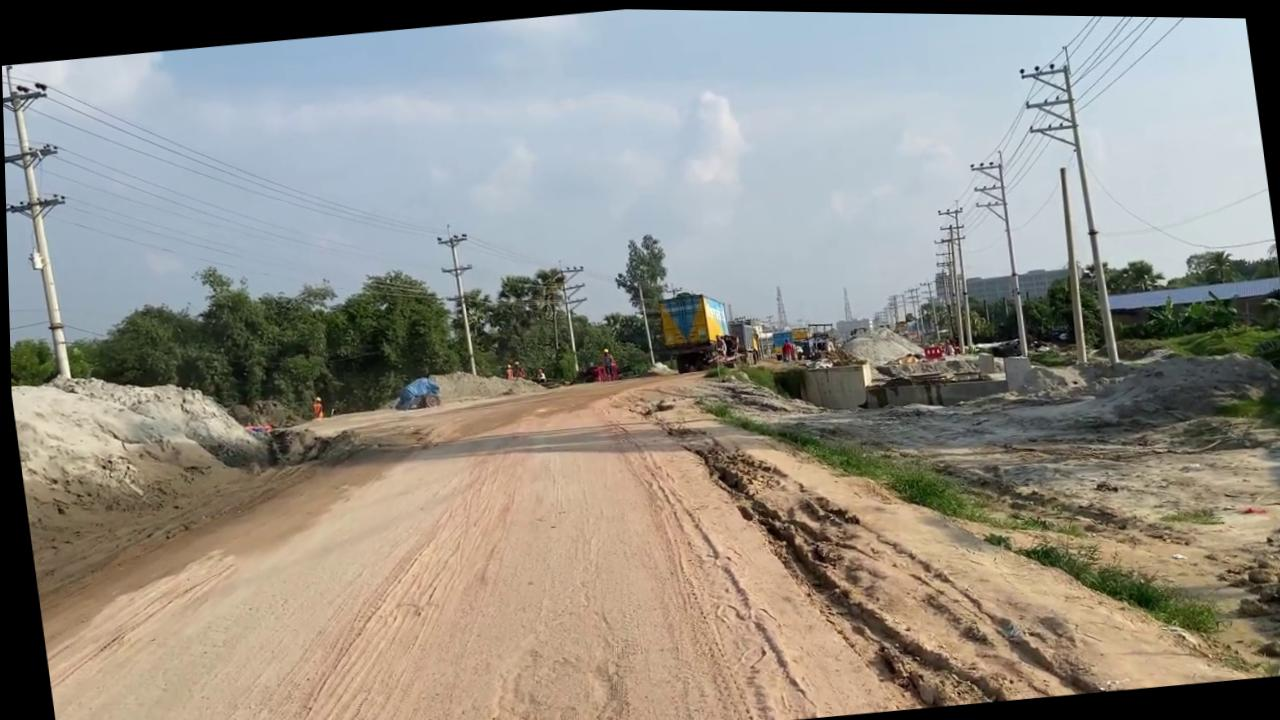Garbage: (388, 373, 439, 410)
Muddy road: (12, 295, 1280, 720)
Obstacle: (864, 339, 1031, 410), (793, 354, 874, 412)
Pole: (1, 61, 87, 382), (1049, 162, 1090, 359), (634, 279, 654, 365)
Traffic-sign: (606, 227, 678, 367)
Tree: (646, 273, 837, 375), (646, 283, 736, 373), (766, 317, 835, 361)
